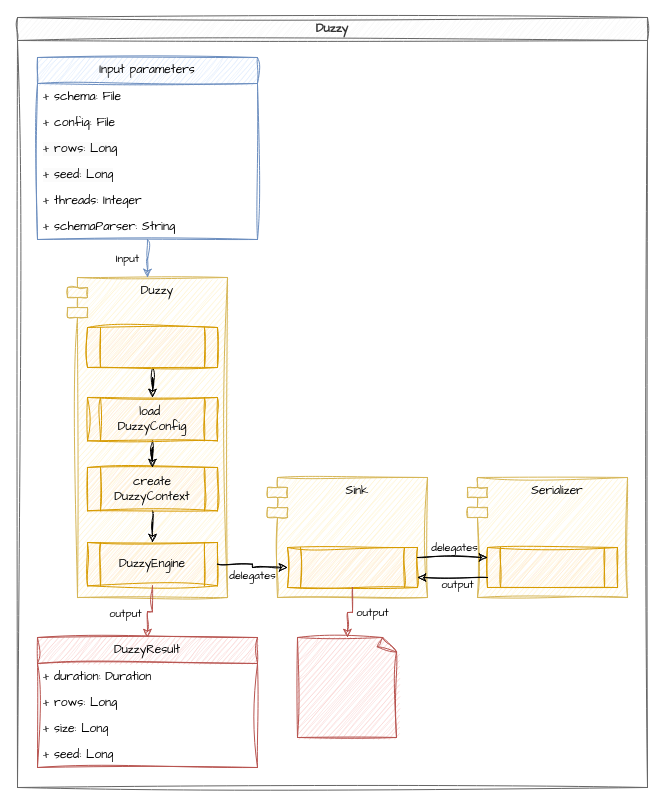
Image size: 665x805. Some labels were removed from this diagram. Here are the shapes that lost their labels. From the top down, the centre of each, then its label:
the point at 152,347: load Parser
the point at 352,567: write
the point at 552,567: serialize
the point at 347,687: Data
